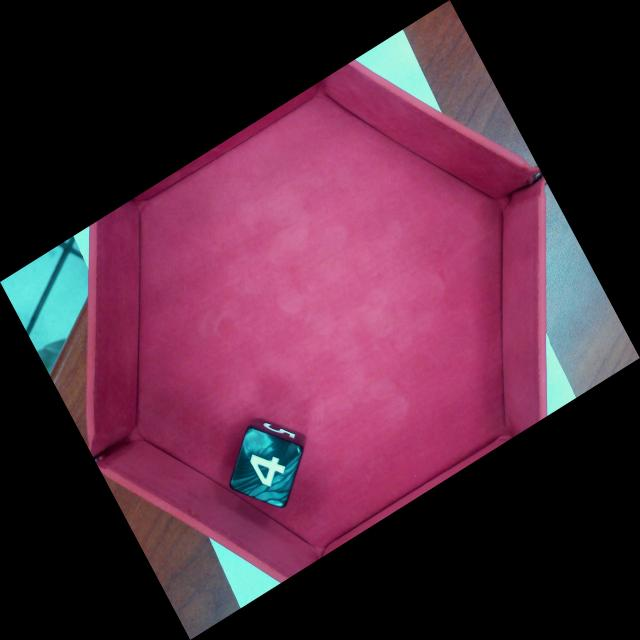dice: (227, 427, 305, 509)
